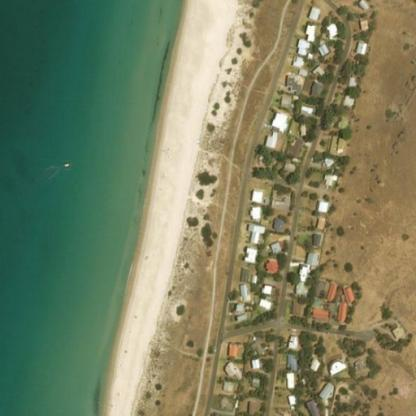ship: (61, 158, 71, 170)
